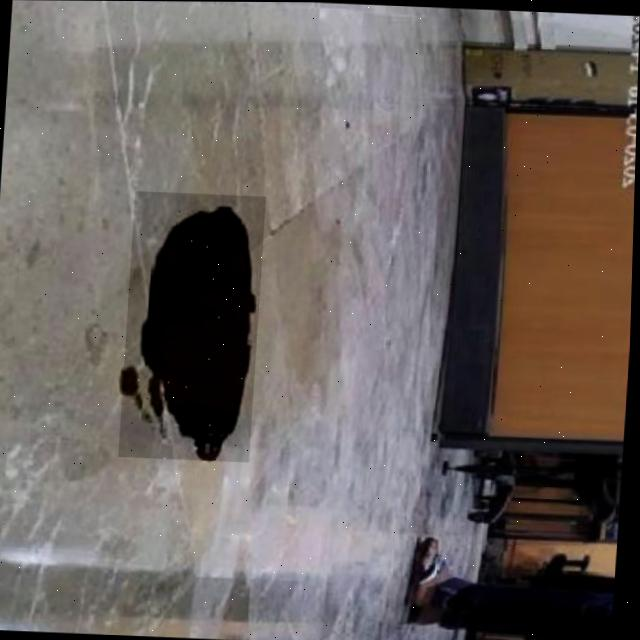spillage: (125, 194, 257, 460)
